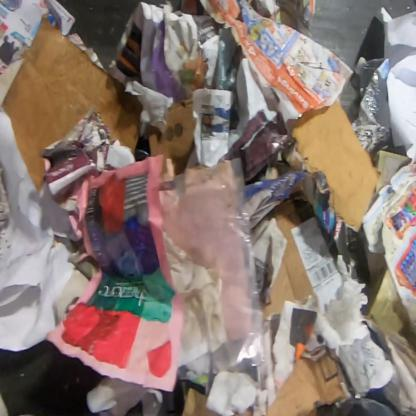cardboard: (0, 12, 142, 194), (289, 97, 381, 233), (262, 191, 343, 322), (265, 354, 354, 416), (147, 92, 197, 176), (179, 386, 225, 415)
rigid_plastic: (351, 57, 391, 129)
soft_plastic: (156, 154, 269, 376)
